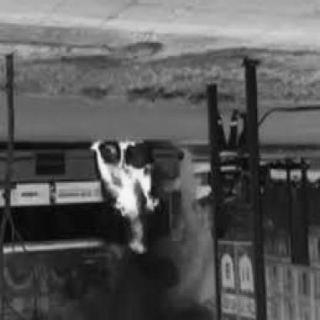Fire: (95, 138, 163, 262)
Smoke: (75, 266, 199, 318), (170, 218, 207, 262)
